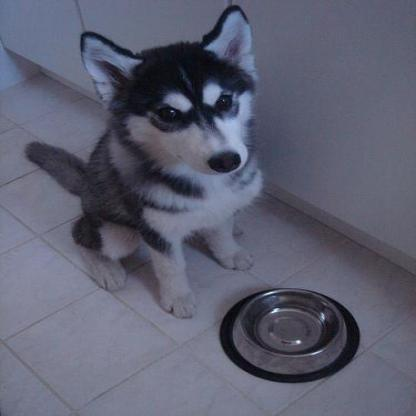Siberian_husky: (23, 4, 258, 318)
